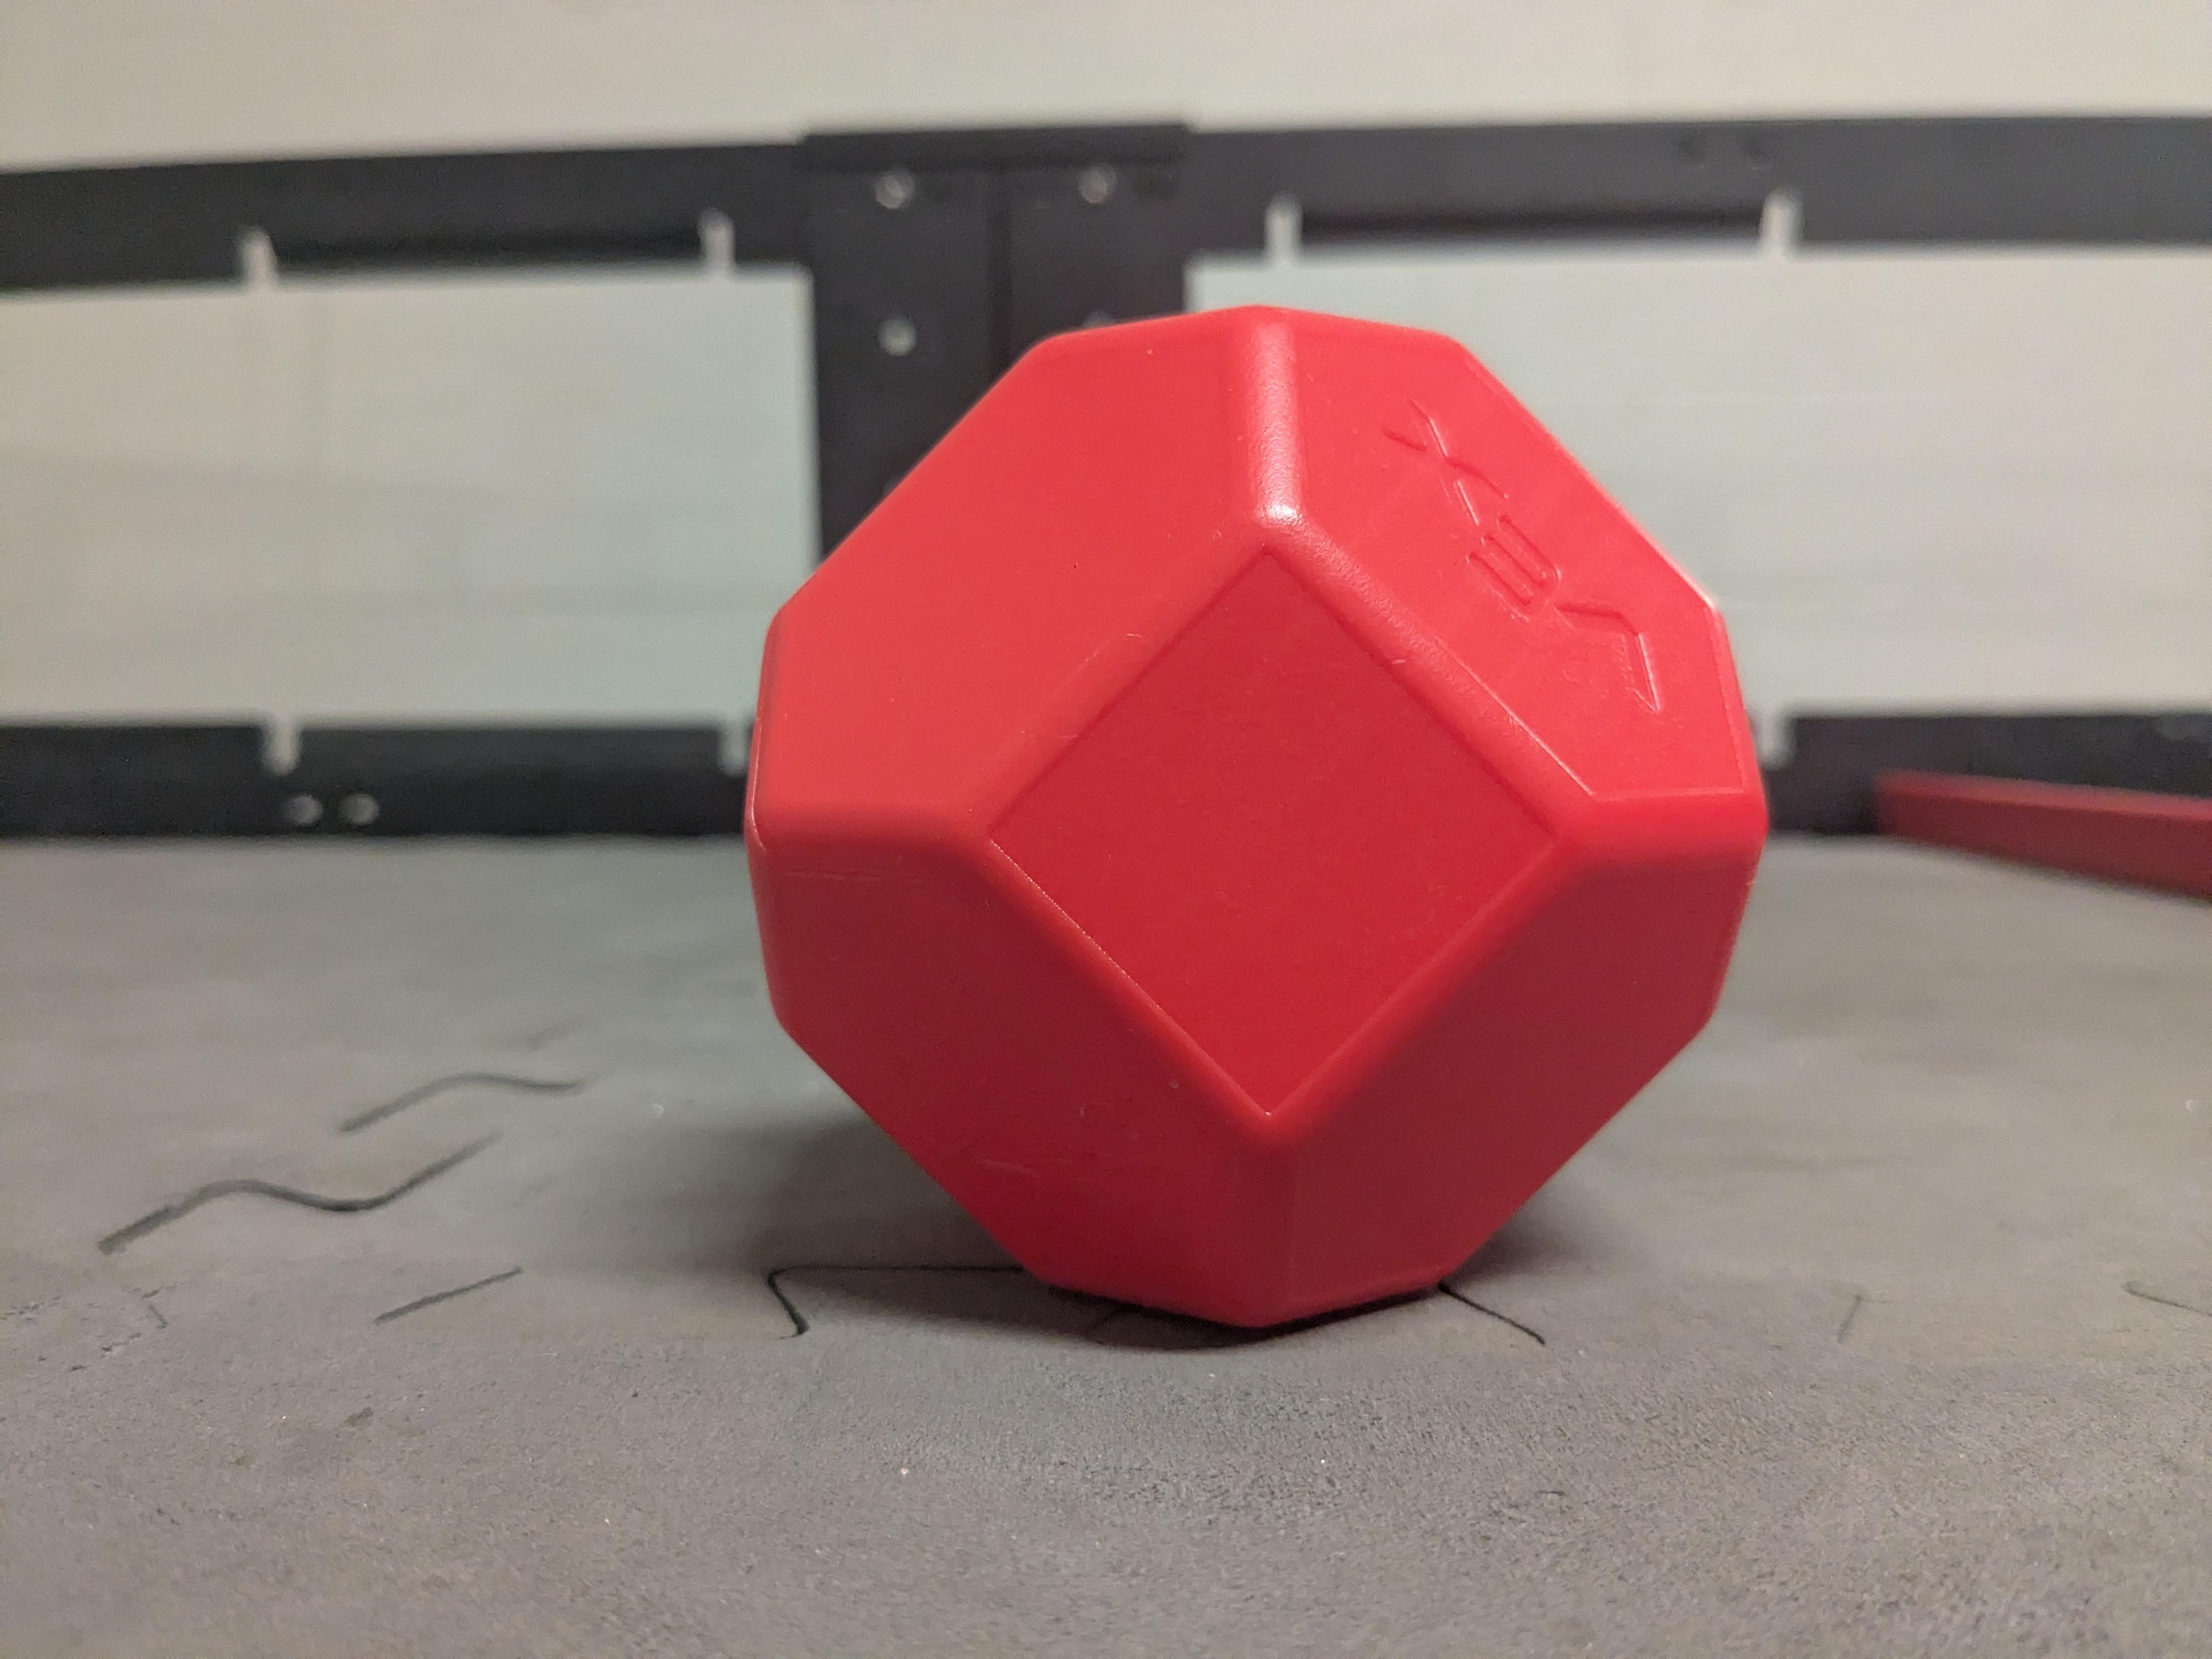Vex-Pieces-RED: (745, 307, 1764, 1324)
